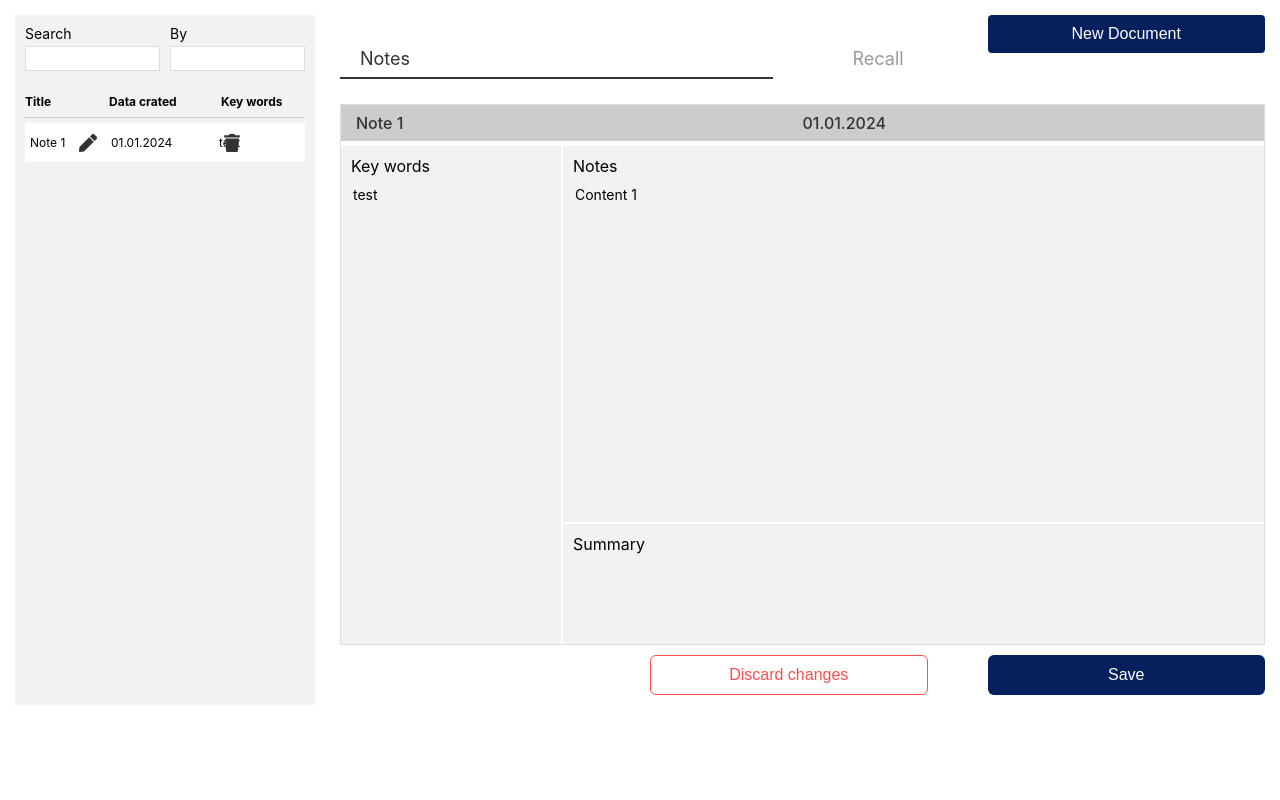
it: NotesView Component › switches to Recall tab
The image size is (1280, 800).
Check: the text "Note 1" in the row of "test" is shown, box [30, 135, 65, 150]
Click the text "Recall" at [878, 58], box [852, 48, 904, 69]
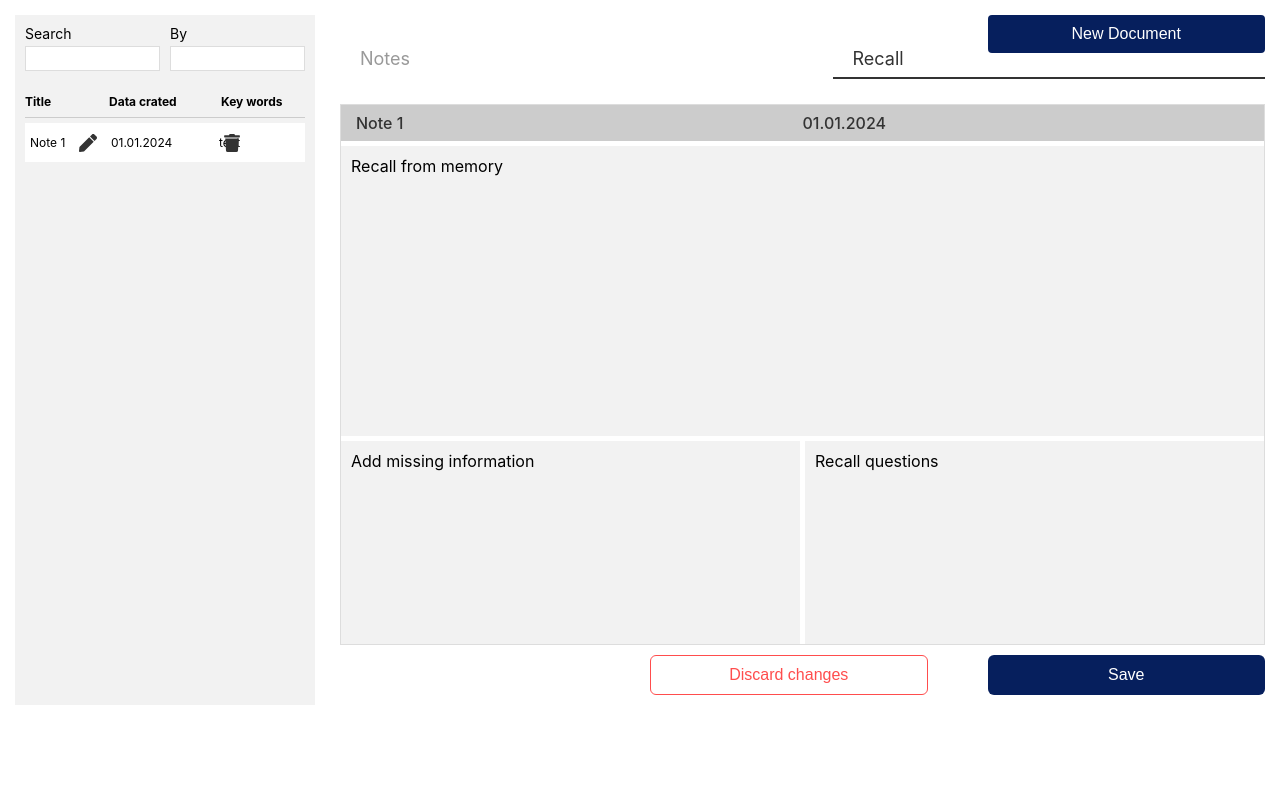
Check: the text "Recall from memory" is shown, box [351, 156, 503, 176]
